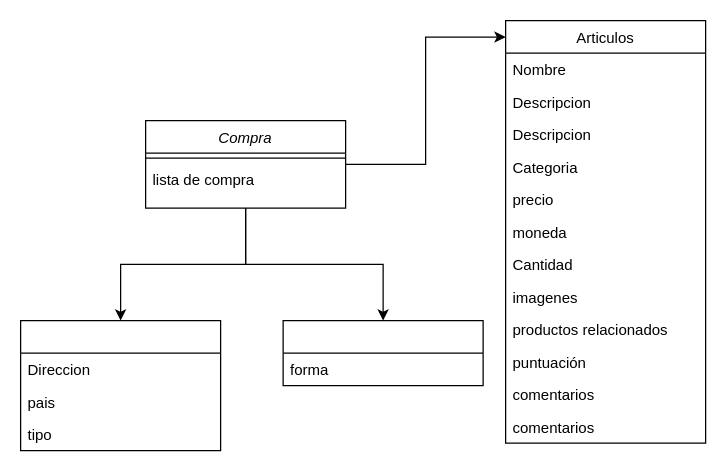
Some shapes in this 726 by 471 pixel diagram are drawn without their labels. The shapes that lost their labels are listed below. From the top down, each one's box as (x1, y1, x2, y2) in pixels, then its label:
(282, 319, 483, 386): Método de pago
(19, 319, 221, 451): Metodo de envio
